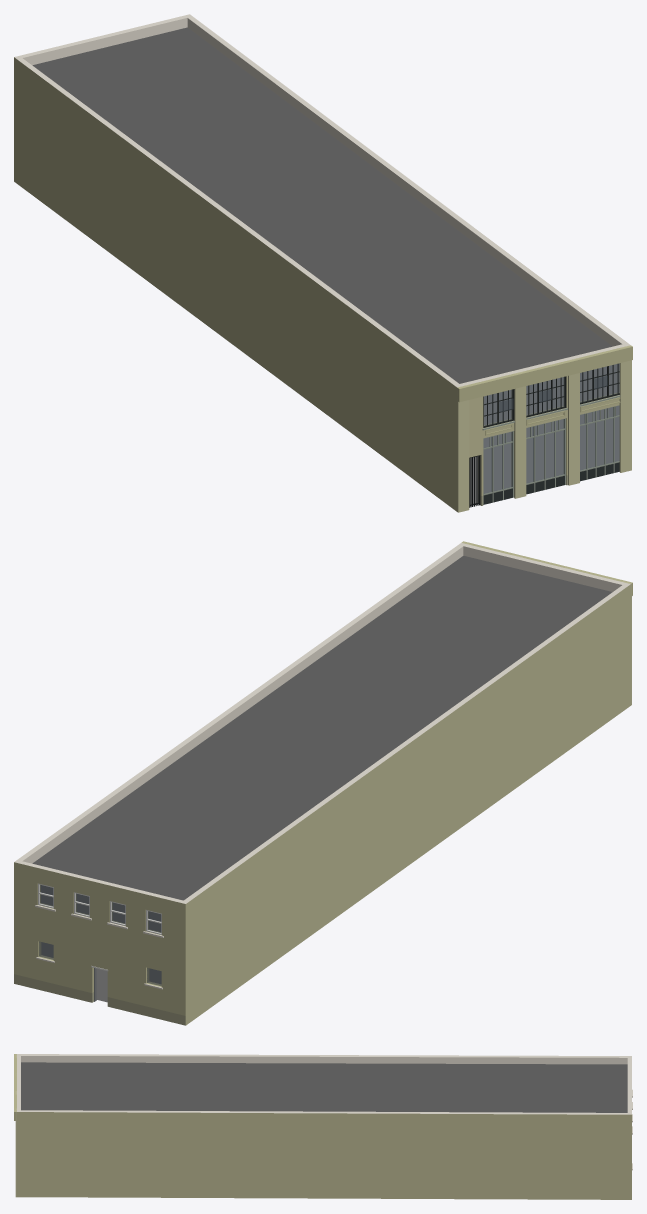
File: exterior.glb
3 renders of one model, top to bottom at view 1: azimuth 30°, elevation 25°; view 2: azimuth 150°, elevation 25°; view 3: azimuth 270°, elevation 25°, orthographic. The views are drawn at different scales.
Parts seen in each view (by area): view 1: shell, roof, relief-1, glazing, shadow-proxy, storefront, frames; view 2: shell, roof, shadow-proxy, glazing; view 3: shell, roof, relief-1.
Boxes of the visible parts, bbox=[...] form: shell: bbox=[14, 14, 630, 511]; roof: bbox=[32, 27, 612, 383]; relief-1: bbox=[457, 345, 632, 512]; glazing: bbox=[483, 363, 619, 493]; shadow-proxy: bbox=[470, 363, 619, 504]; storefront: bbox=[469, 405, 619, 507]; frames: bbox=[483, 363, 619, 427]; shell: bbox=[14, 543, 630, 1025]; roof: bbox=[32, 555, 612, 900]; shadow-proxy: bbox=[41, 885, 161, 1002]; glazing: bbox=[39, 885, 161, 985]; shell: bbox=[17, 1054, 631, 1199]; roof: bbox=[21, 1062, 627, 1112]; relief-1: bbox=[14, 1054, 16, 1197].
Size of the model in its own units: 11.49 by 7.51 by 49.46.
